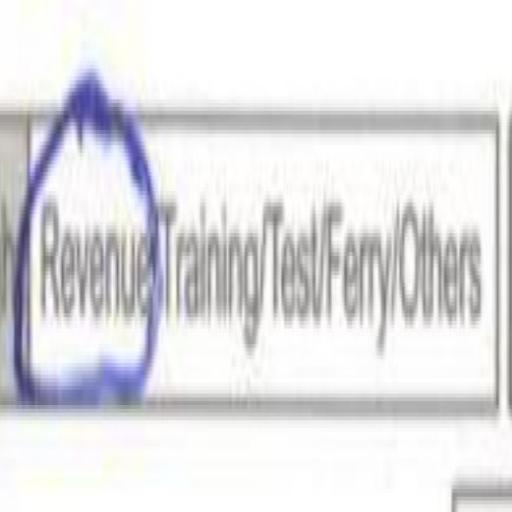check: (32, 42, 154, 456)
